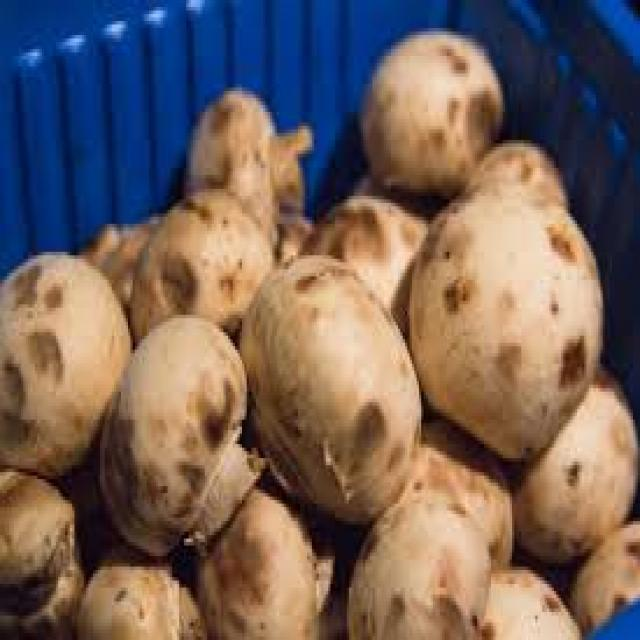organic waste: (402, 178, 600, 462), (240, 248, 419, 525), (98, 308, 265, 556), (0, 244, 130, 472), (510, 357, 633, 563), (123, 182, 277, 339), (358, 24, 501, 189), (193, 472, 333, 637), (344, 486, 489, 637), (391, 406, 512, 566), (179, 84, 314, 224), (300, 196, 428, 329), (0, 465, 84, 637), (77, 546, 202, 636), (568, 518, 638, 636), (470, 560, 577, 636), (461, 136, 563, 214), (79, 217, 151, 304), (347, 168, 440, 217), (67, 465, 111, 567), (268, 210, 314, 255)
